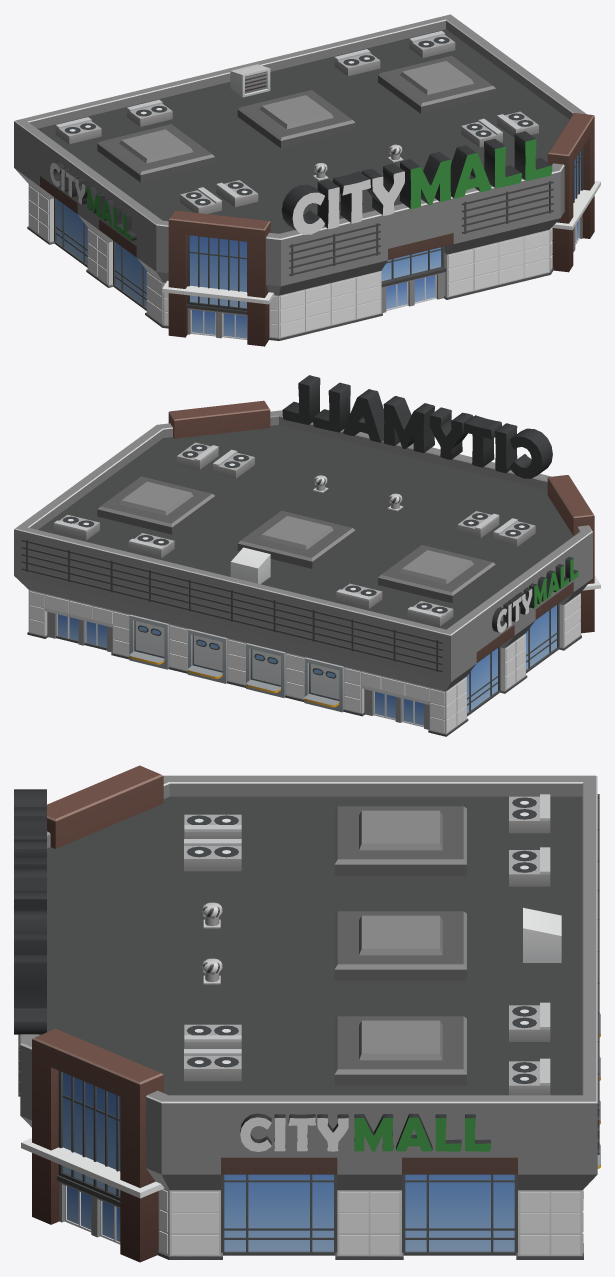
Rendered from mall_001.glb.
3 views of the same model, one above another, from view 1: azimuth 30°, elevation 25°; view 2: azimuth 150°, elevation 25°; view 3: azimuth 270°, elevation 25° (orthographic). The views are drawn at different scales.
Parts seen in each view (by area): view 1: mall_001; view 2: mall_001; view 3: mall_001.
Part boxes in pixels (<box>): mall_001: <box>14,14,600,346</box>; mall_001: <box>14,375,600,736</box>; mall_001: <box>14,765,600,1262</box>.
Size of the model in its own units: 40.97 by 12.97 by 30.38.
2 materials, 2 textured.
